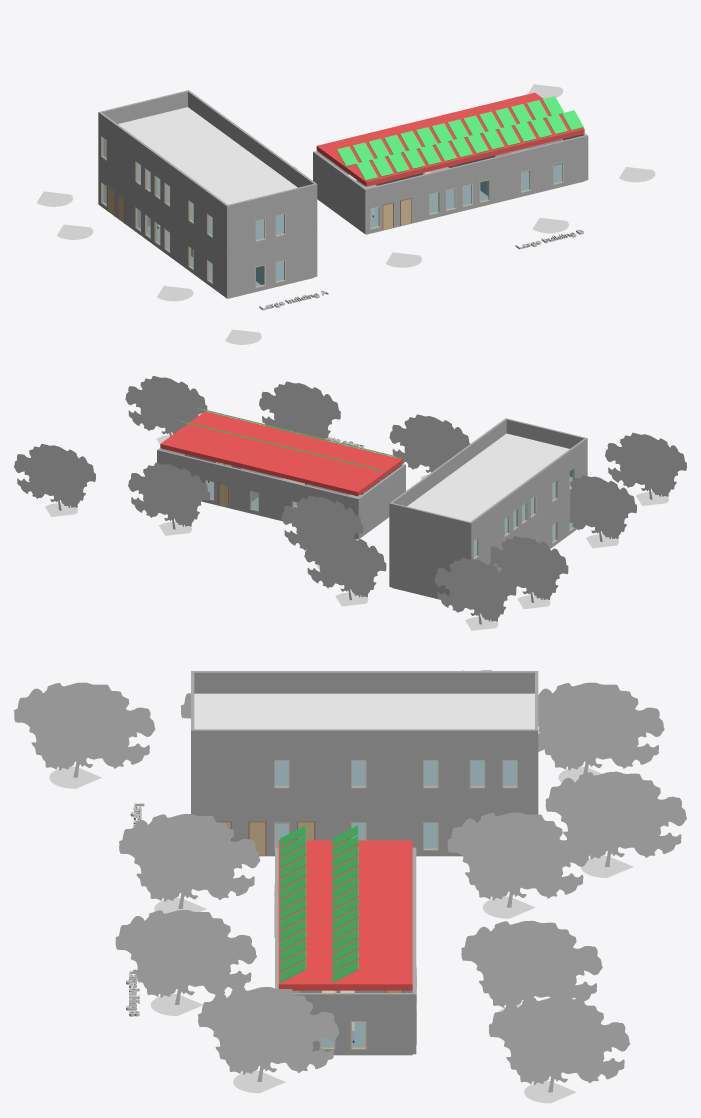
3 views of the same model, one above another, from view 1: azimuth 30°, elevation 25°; view 2: azimuth 150°, elevation 25°; view 3: azimuth 270°, elevation 25° (orthographic). The views are drawn at different scales.
Visible parts, largest first — view 1: IfcWallStandardCase/Basic Wall:Outside wall:355787, IfcCovering/Compound Ceiling:Plain:355657, IfcSlab/Basic Roof:Generic - 400mm:355926, IfcWallStandardCase/Basic Wall:Outside wall:355149, IfcWallStandardCase/Basic Wall:Outside wall:352966, IfcWallStandardCase/Basic Wall:Outside wall:355148, IfcWallStandardCase/Basic Wall:Outside wall:346660, IfcWallStandardCase/Basic Wall:Outside wall:355789, IfcWallStandardCase/Basic Wall:Outside wall:355150, IfcWallStandardCase/Basic Wall:Outside wall:355151, IfcSlab/Floor:Generic 150mm:355818, IfcSlab/Floor:Generic 150mm:354834 (+1 smaller); view 2: IfcBuildingElementProxy/M_RPC Tree - Deciduous:Siberian Crab (×11), IfcSlab/Basic Roof:Generic - 400mm:355926, IfcCovering/Compound Ceiling:Plain:355657, IfcWallStandardCase/Basic Wall:Outside wall:355788, IfcWallStandardCase/Basic Wall:Outside wall:355149, IfcWallStandardCase/Basic Wall:Outside wall:355151, IfcWallStandardCase/Basic Wall:Outside wall:353105, IfcWallStandardCase/Basic Wall:Outside wall:355150, IfcWallStandardCase/Basic Wall:Outside wall:355789, IfcWallStandardCase/Basic Wall:Outside wall:352966, IfcWallStandardCase/Basic Wall:Outside wall:355148, IfcSlab/Floor:Generic 150mm:354834 (+1 smaller); view 3: IfcBuildingElementProxy/M_RPC Tree - Deciduous:Siberian Crab (×9), IfcWallStandardCase/Basic Wall:Outside wall:355150, IfcSlab/Basic Roof:Generic - 400mm:355926, IfcCovering/Compound Ceiling:Plain:355657, IfcWallStandardCase/Basic Wall:Outside wall:353059, IfcWallStandardCase/Basic Wall:Outside wall:355149, IfcWallStandardCase/Basic Wall:Outside wall:355785, IfcSlab/Floor:Generic 150mm:354834, IfcSlab/Floor:Generic 150mm:354788, IfcWallStandardCase/Basic Wall:Outside wall:355788.
Boxes of the visible parts, left/top/right/bottom form: IfcWallStandardCase/Basic Wall:Outside wall:355787: left=364, top=135, right=585, bottom=234; IfcCovering/Compound Ceiling:Plain:355657: left=118, top=107, right=297, bottom=204; IfcSlab/Basic Roof:Generic - 400mm:355926: left=316, top=92, right=584, bottom=186; IfcWallStandardCase/Basic Wall:Outside wall:355149: left=98, top=111, right=227, bottom=250; IfcWallStandardCase/Basic Wall:Outside wall:352966: left=98, top=160, right=225, bottom=297; IfcWallStandardCase/Basic Wall:Outside wall:355148: left=225, top=183, right=317, bottom=252; IfcWallStandardCase/Basic Wall:Outside wall:346660: left=225, top=232, right=317, bottom=298; IfcWallStandardCase/Basic Wall:Outside wall:355789: left=314, top=152, right=365, bottom=232; IfcWallStandardCase/Basic Wall:Outside wall:355150: left=187, top=90, right=315, bottom=187; IfcWallStandardCase/Basic Wall:Outside wall:355151: left=101, top=90, right=187, bottom=157; IfcSlab/Floor:Generic 150mm:355818: left=362, top=164, right=584, bottom=234; IfcSlab/Floor:Generic 150mm:354834: left=98, top=157, right=317, bottom=253; IfcBuildingElementProxy/M_RPC Tree - Deciduous:Siberian Crab (×11): left=14, top=376, right=686, bottom=630; IfcSlab/Basic Roof:Generic - 400mm:355926: left=160, top=411, right=402, bottom=496; IfcCovering/Compound Ceiling:Plain:355657: left=407, top=433, right=569, bottom=521; IfcWallStandardCase/Basic Wall:Outside wall:355788: left=159, top=449, right=359, bottom=539; IfcWallStandardCase/Basic Wall:Outside wall:355149: left=469, top=438, right=586, bottom=559; IfcWallStandardCase/Basic Wall:Outside wall:355151: left=391, top=503, right=469, bottom=560; IfcWallStandardCase/Basic Wall:Outside wall:353105: left=391, top=547, right=453, bottom=598; IfcWallStandardCase/Basic Wall:Outside wall:355150: left=389, top=419, right=506, bottom=545; IfcWallStandardCase/Basic Wall:Outside wall:355789: left=358, top=465, right=404, bottom=538; IfcWallStandardCase/Basic Wall:Outside wall:352966: left=480, top=494, right=576, bottom=572; IfcWallStandardCase/Basic Wall:Outside wall:355148: left=505, top=418, right=587, bottom=477; IfcSlab/Floor:Generic 150mm:354834: left=389, top=477, right=572, bottom=562; IfcBuildingElementProxy/M_RPC Tree - Deciduous:Siberian Crab (×9): left=14, top=682, right=686, bottom=1103; IfcWallStandardCase/Basic Wall:Outside wall:355150: left=194, top=729, right=538, bottom=792; IfcSlab/Basic Roof:Generic - 400mm:355926: left=278, top=840, right=412, bottom=990; IfcCovering/Compound Ceiling:Plain:355657: left=194, top=693, right=534, bottom=729; IfcWallStandardCase/Basic Wall:Outside wall:353059: left=194, top=795, right=538, bottom=855; IfcWallStandardCase/Basic Wall:Outside wall:355149: left=194, top=671, right=538, bottom=693; IfcWallStandardCase/Basic Wall:Outside wall:355785: left=294, top=993, right=416, bottom=1054; IfcSlab/Floor:Generic 150mm:354834: left=191, top=760, right=538, bottom=795; IfcSlab/Floor:Generic 150mm:354788: left=259, top=823, right=462, bottom=856; IfcWallStandardCase/Basic Wall:Outside wall:355788: left=412, top=847, right=416, bottom=992.
Bounding box in the file's own units: 53.19 × 8.15 × 39.12.
